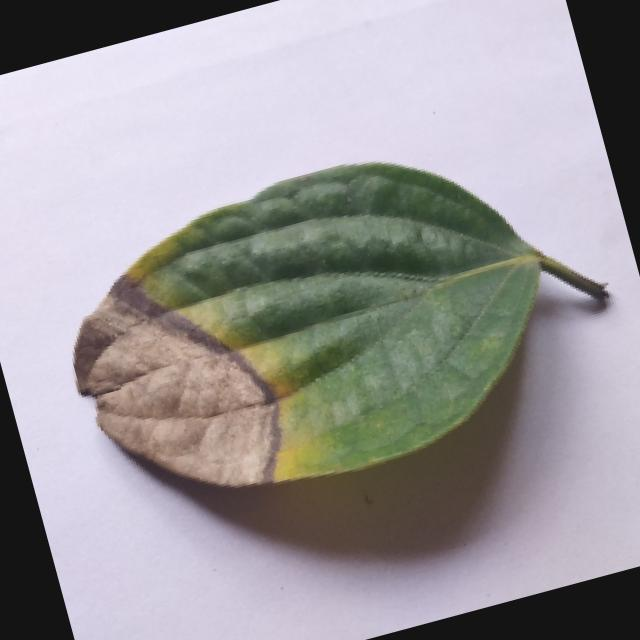footrot: (48, 105, 638, 532)
